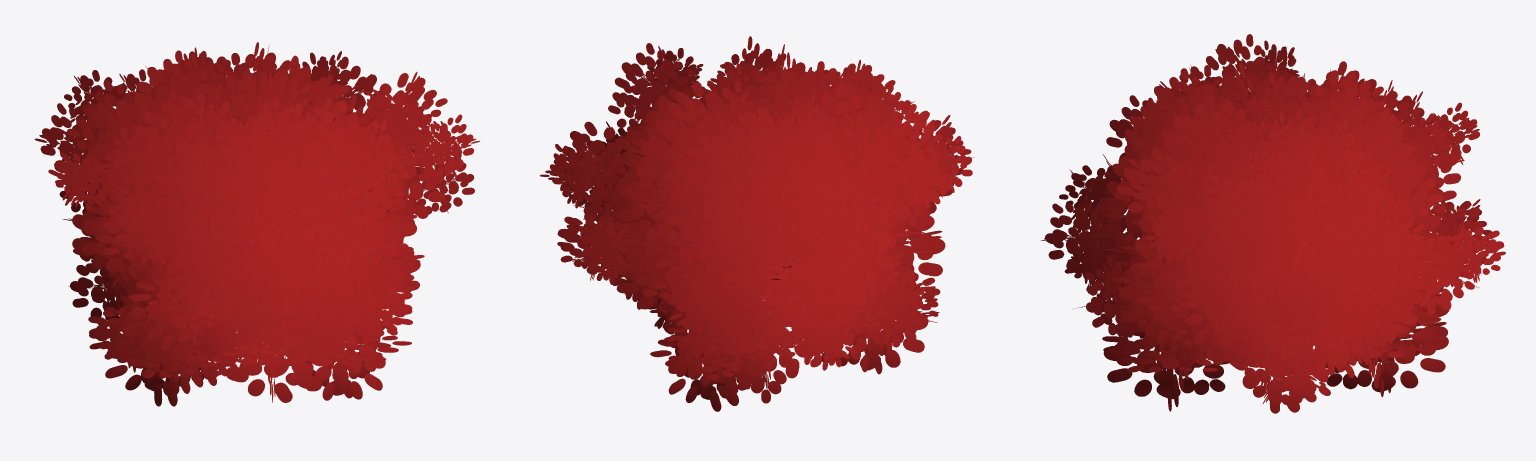
Rendered from Bush_Common.gltf.
3 views of the same model, side by side, from view 1: azimuth 30°, elevation 25°; view 2: azimuth 150°, elevation 25°; view 3: azimuth 270°, elevation 25° (orthographic). The views are drawn at different scales.
Parts seen in each view (by area): view 1: Bush_Common; view 2: Bush_Common; view 3: Bush_Common.
Part boxes in pixels (x1=…): Bush_Common: x1=34, y1=42, x2=479, y2=406; Bush_Common: x1=539, y1=36, x2=974, y2=411; Bush_Common: x1=1041, y1=34, x2=1505, y2=413.
Bounding box in the file's own units: 1.91 × 1.58 × 1.97.
Materials: 1 (1 with a texture image).
